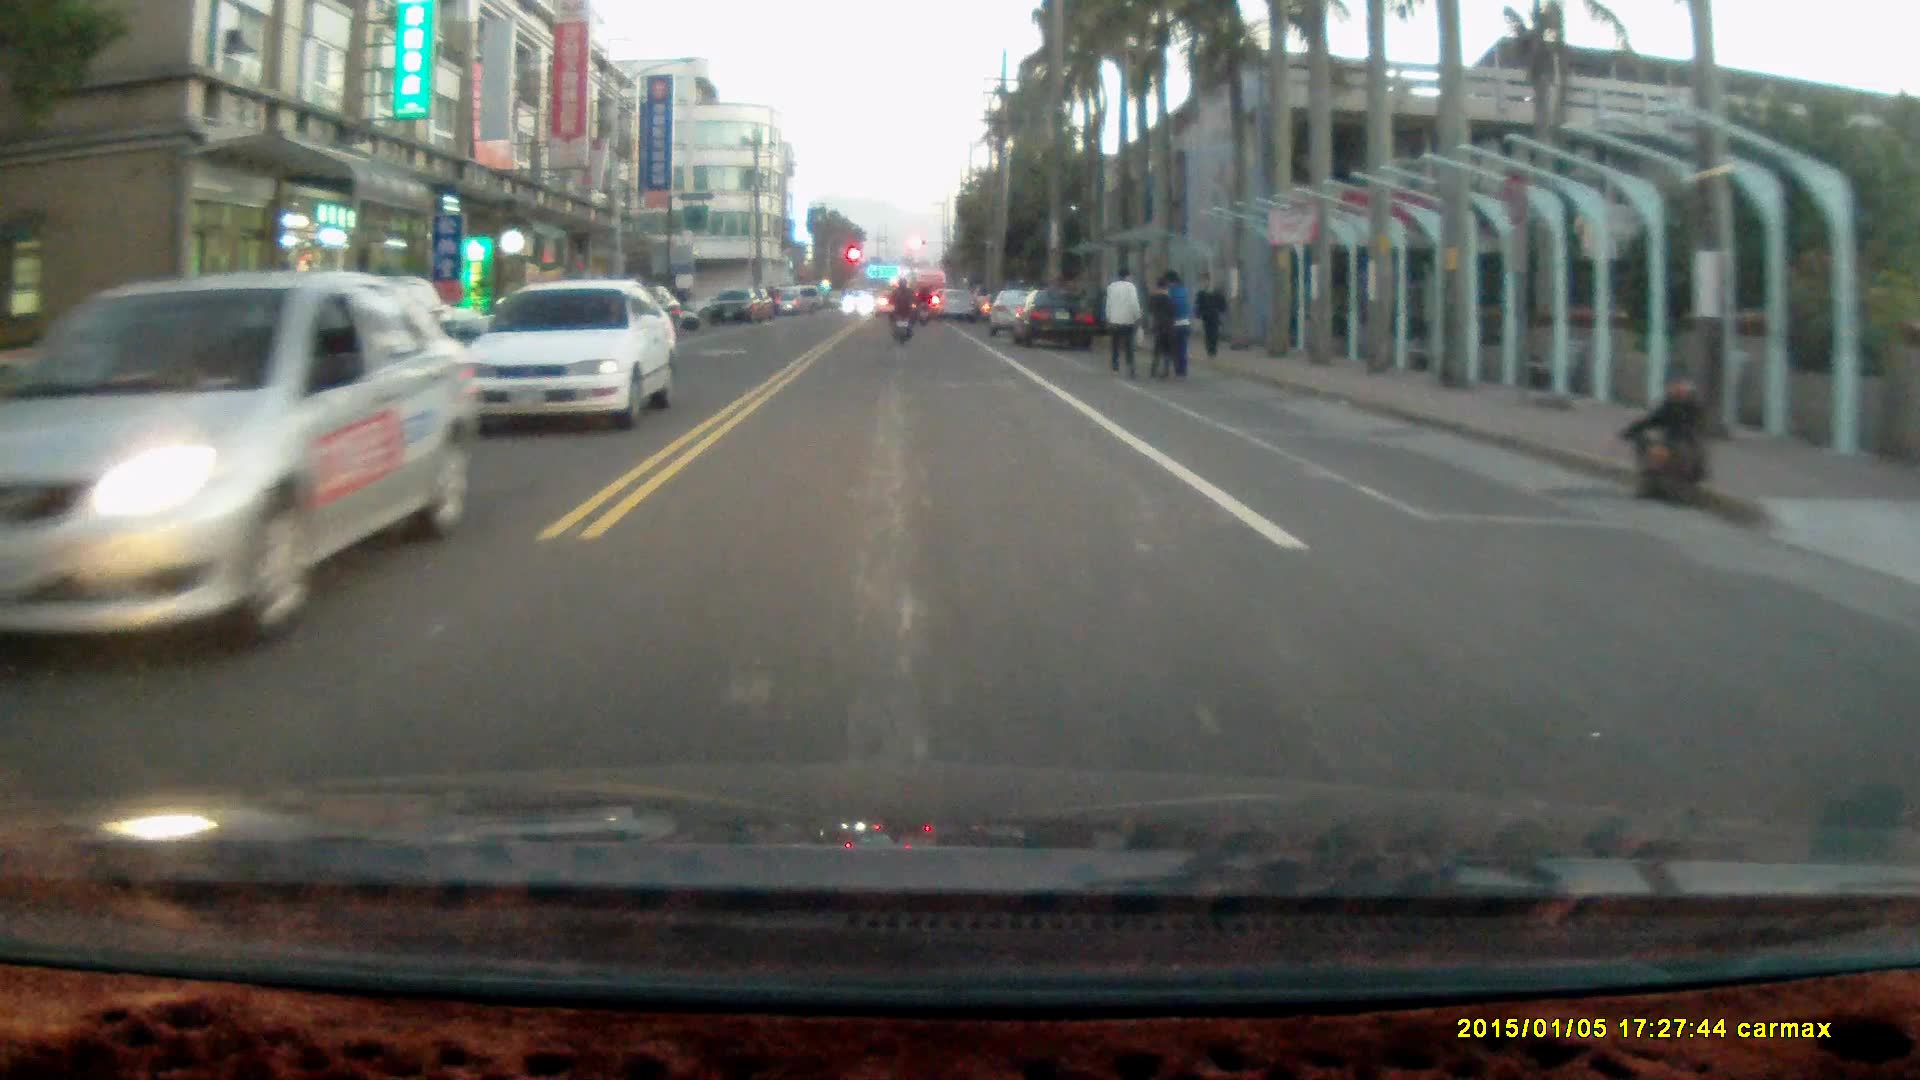pedestrian: (1615, 370, 1713, 508), (1149, 263, 1195, 381), (1102, 261, 1141, 379), (1143, 274, 1182, 381), (1193, 268, 1228, 359)
rider: (884, 276, 915, 348)
vehicle: (1, 269, 500, 660), (464, 279, 680, 426), (1009, 290, 1101, 348)
